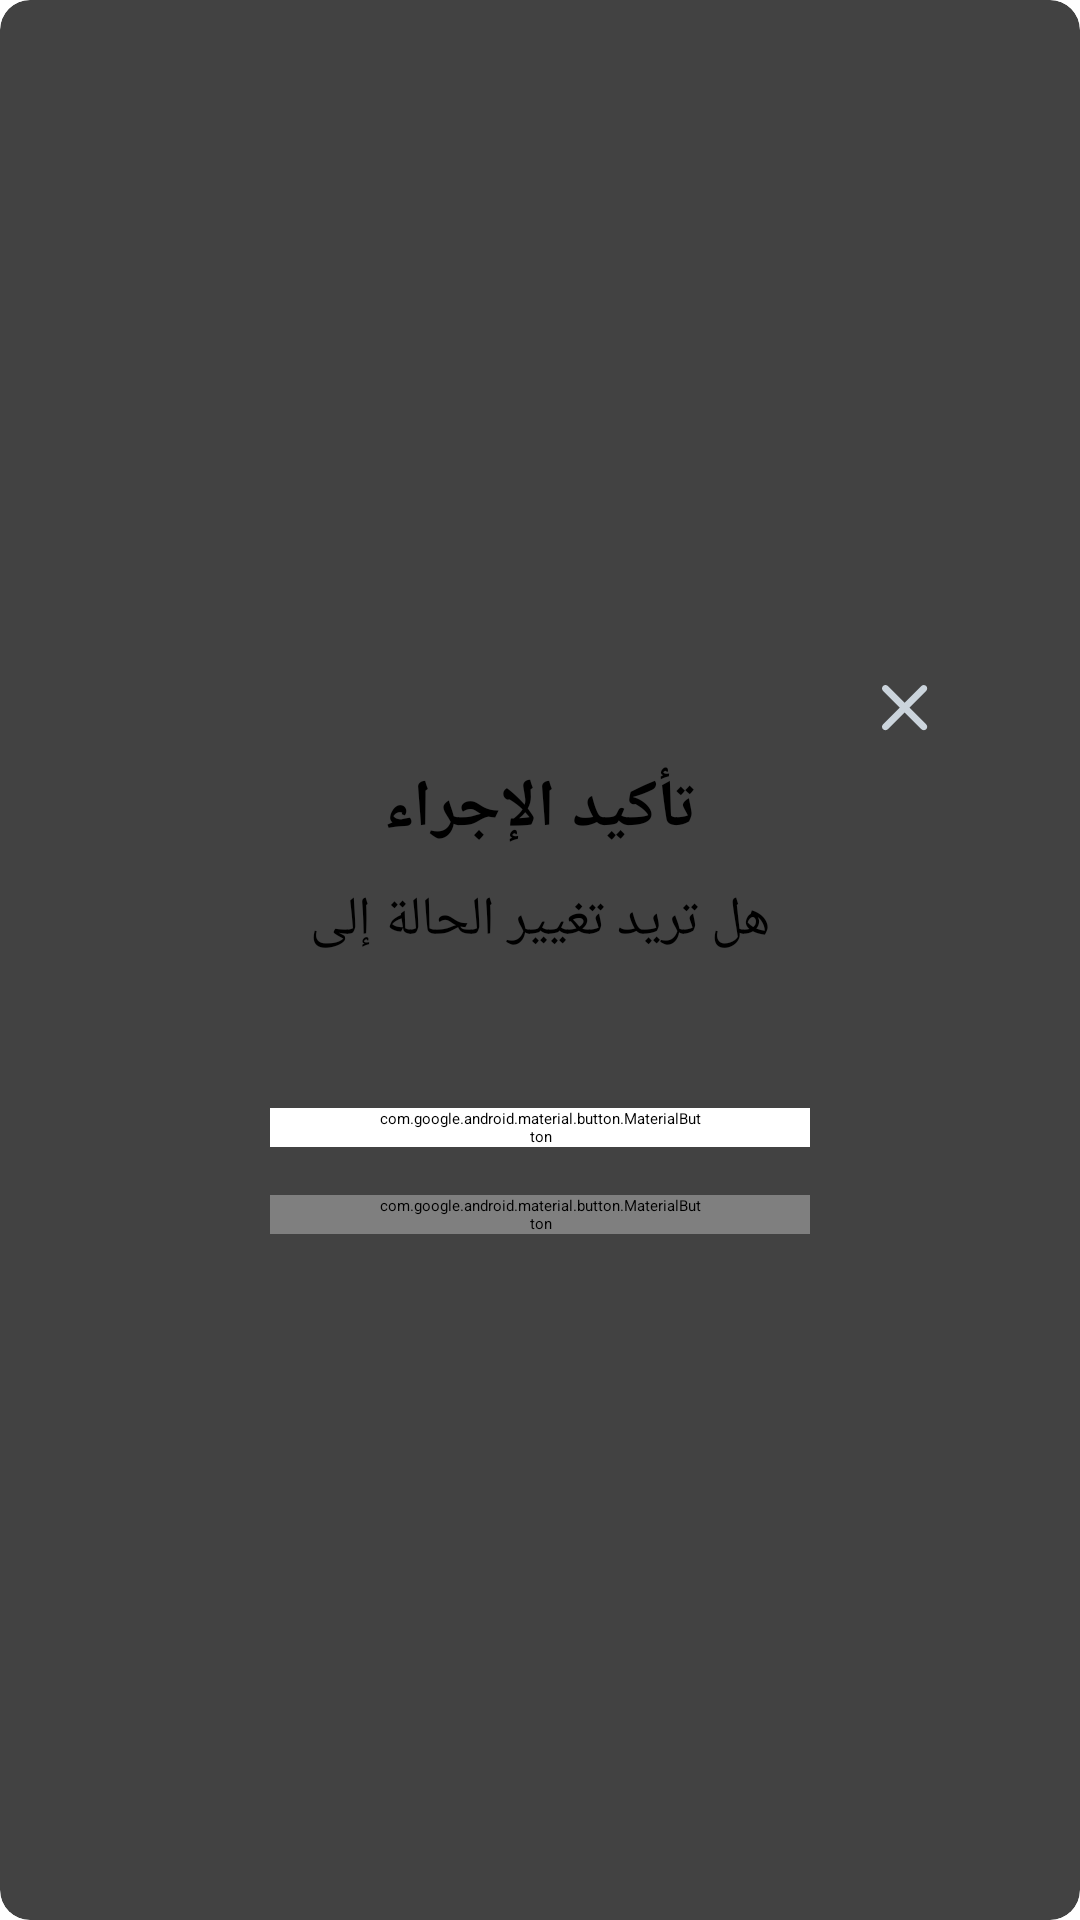

Named icons in this screenshot (1080 x 1920) and their bounding boxes, (x1, y1, x2, y2):
close: (882, 685, 927, 731)
